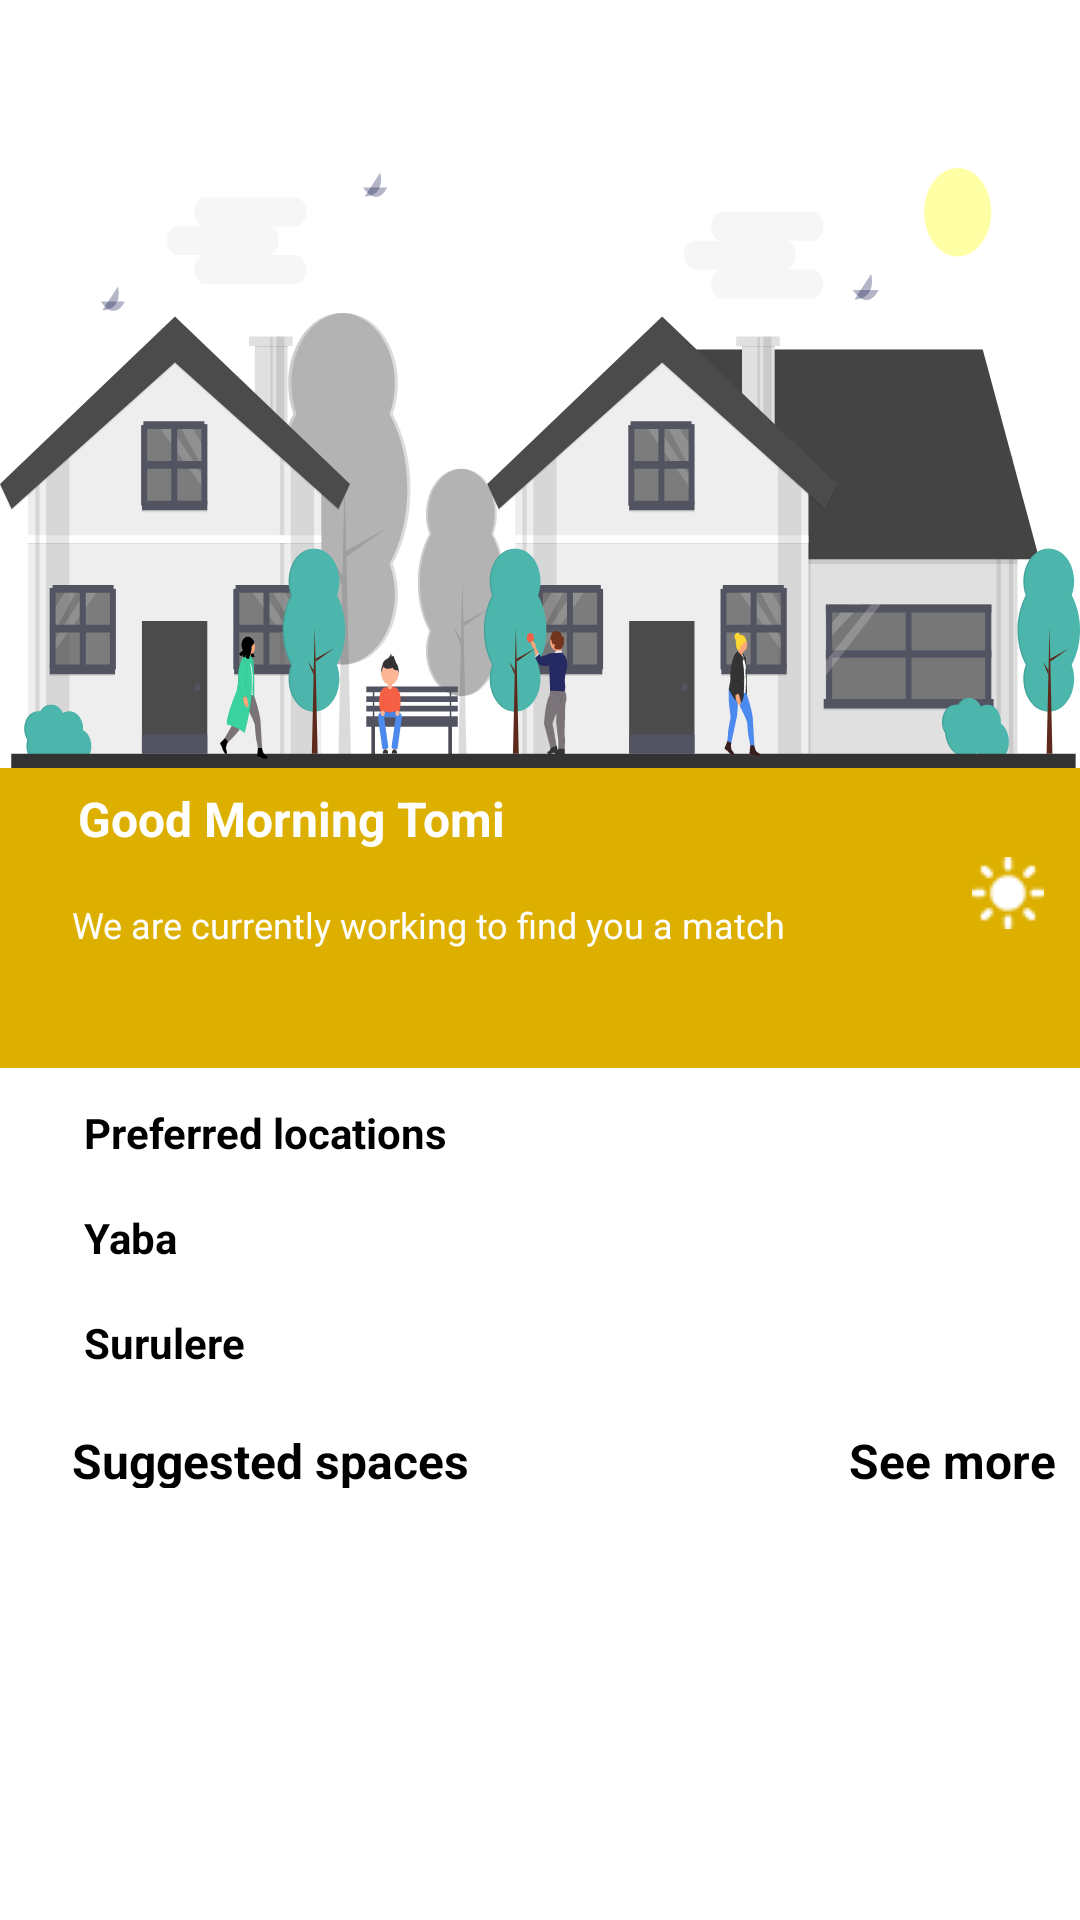

Icons on this 1080 x 1920 Android screen, each with its box as (x1, y1, x2, y2):
sun: (972, 857, 1044, 929)
